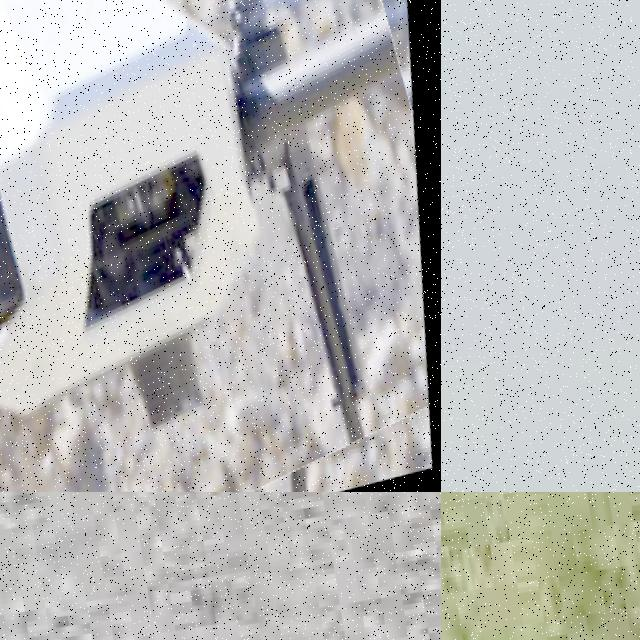drone: (0, 0, 441, 492)
